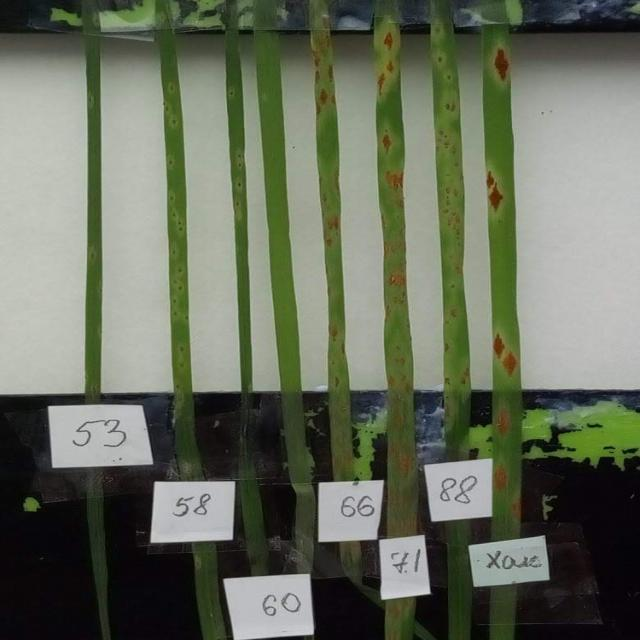wheat-stemrust: (374, 26, 419, 517), (479, 39, 522, 529), (312, 17, 345, 296)
